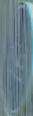bike lane: (4, 4, 29, 109)
